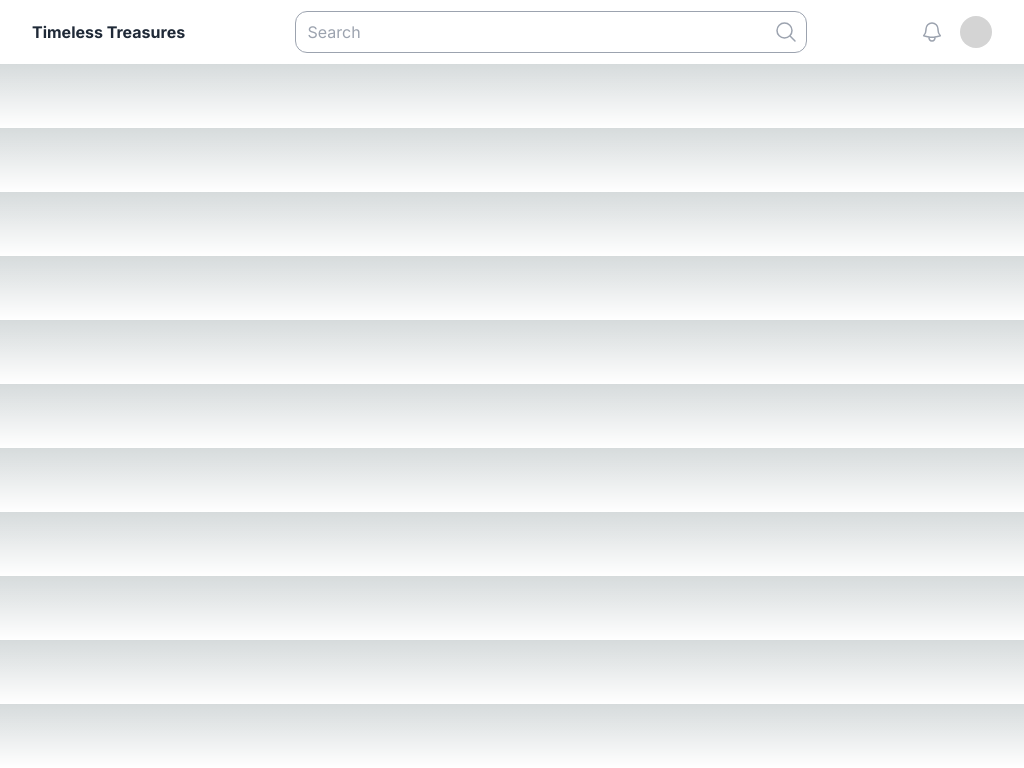
Scenario: Navbar Component › opens profile dropdown menu
Click the 2nd button named "open user menu".
click(976, 32)  # box [960,16,992,48]
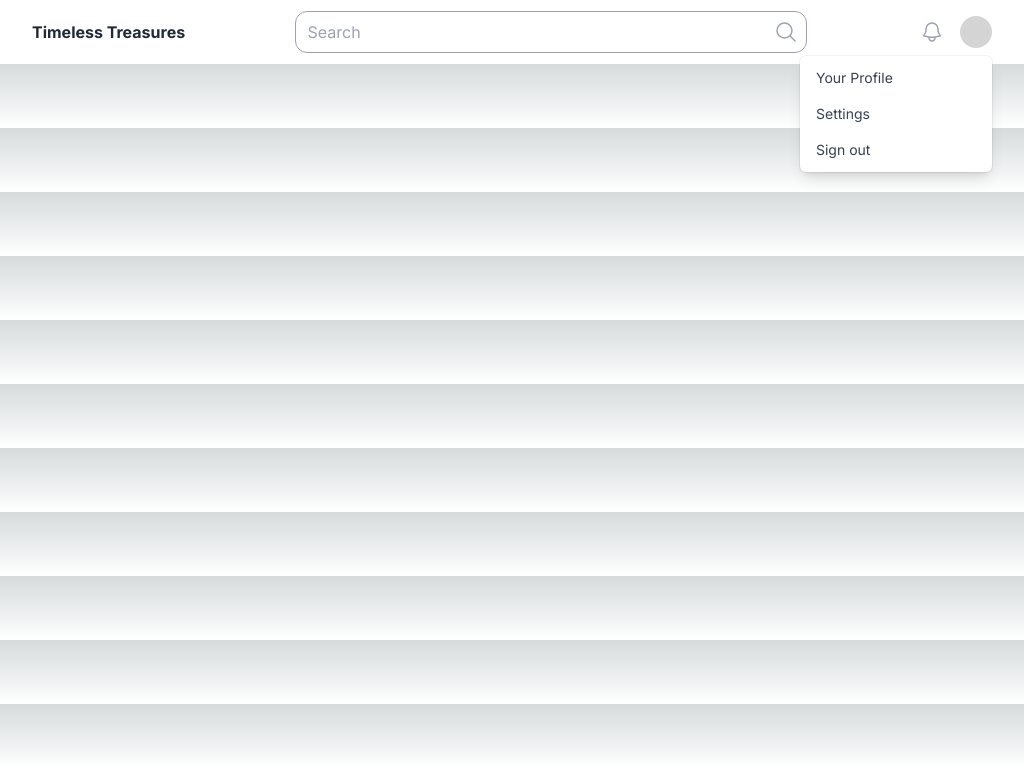
Expected: the menu item "Your Profile" is shown, [816,69,893,86]
Expected: the menu item "Settings" is shown, [816,105,870,122]
Expected: the menu item "Sign out" is shown, [800,132,886,168]
